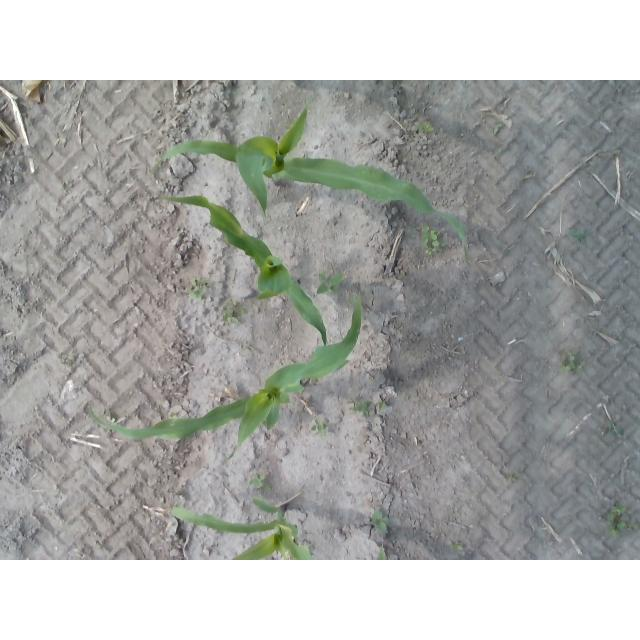Maize: (148, 101, 473, 259), (83, 296, 361, 462), (160, 194, 329, 346), (169, 497, 387, 560)
Weeds: (602, 503, 638, 538), (556, 349, 584, 376), (421, 226, 446, 255), (188, 276, 213, 300), (316, 274, 344, 295), (220, 301, 244, 324), (601, 421, 623, 444), (348, 396, 370, 418), (369, 510, 389, 534), (249, 474, 274, 493), (311, 418, 330, 435), (417, 121, 435, 134), (569, 229, 585, 243), (509, 471, 523, 483), (449, 541, 463, 551), (107, 413, 118, 424), (493, 122, 503, 134), (348, 294, 358, 303), (377, 400, 388, 408)
